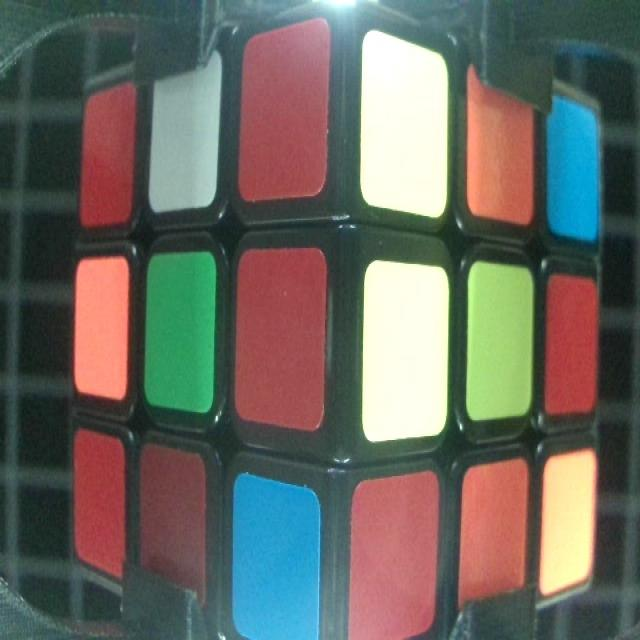b: (234, 479, 320, 639), (547, 102, 596, 237)
g: (147, 261, 214, 406)
o: (469, 74, 533, 216), (73, 262, 125, 394), (542, 463, 596, 588)
r: (236, 251, 322, 428), (245, 20, 329, 193), (354, 483, 433, 640), (142, 443, 202, 597), (462, 471, 528, 609), (78, 430, 124, 568), (83, 90, 131, 222), (552, 288, 596, 413)
w: (362, 261, 450, 437), (365, 36, 446, 202), (154, 64, 218, 204)
y: (471, 268, 530, 413)
